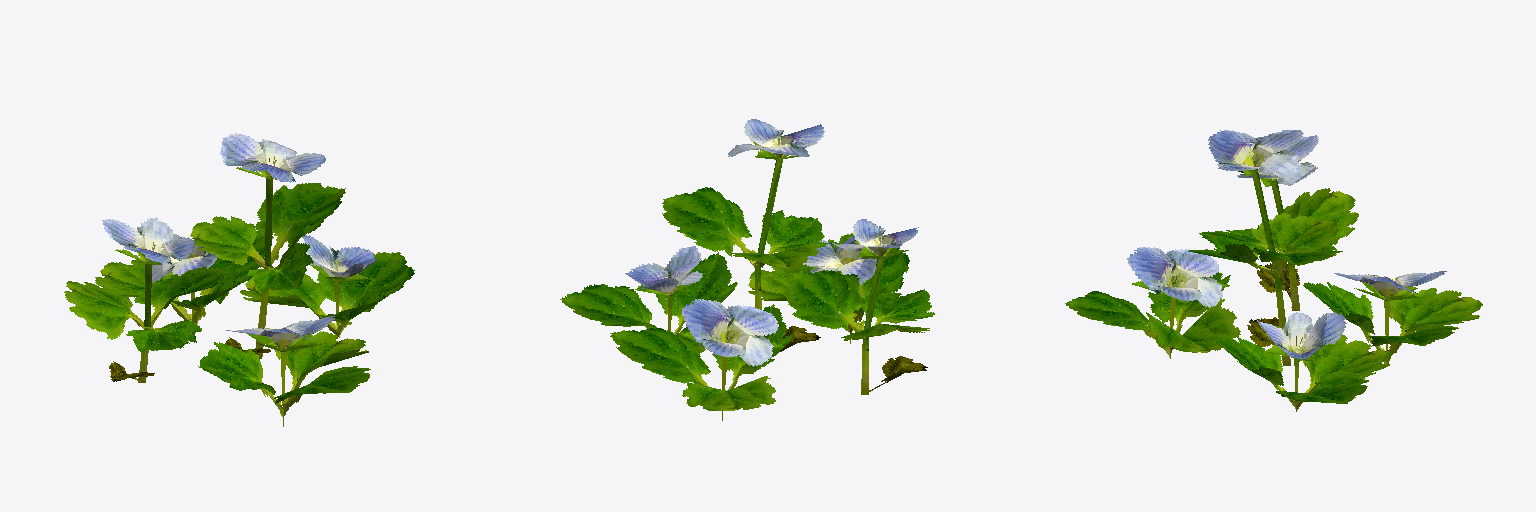
The picture shows the model from 3 angles: view 1: azimuth 30°, elevation 25°; view 2: azimuth 150°, elevation 25°; view 3: azimuth 270°, elevation 25°; orthographic projection.
Parts seen in each view (by area): view 1: Mesh_0407, Mesh_0408; view 2: Mesh_0407, Mesh_0408; view 3: Mesh_0407, Mesh_0408.
Boxes of the visible parts, <box> form: Mesh_0407: <box>95,133,414,426</box>; Mesh_0408: <box>64,217,377,382</box>; Mesh_0407: <box>560,119,927,420</box>; Mesh_0408: <box>610,219,934,394</box>; Mesh_0407: <box>1065,130,1482,411</box>; Mesh_0408: <box>1199,135,1458,391</box>.
Size of the model in its own units: 0.7071 by 0.4727 by 0.7596.
Materials: 1 (1 with a texture image).